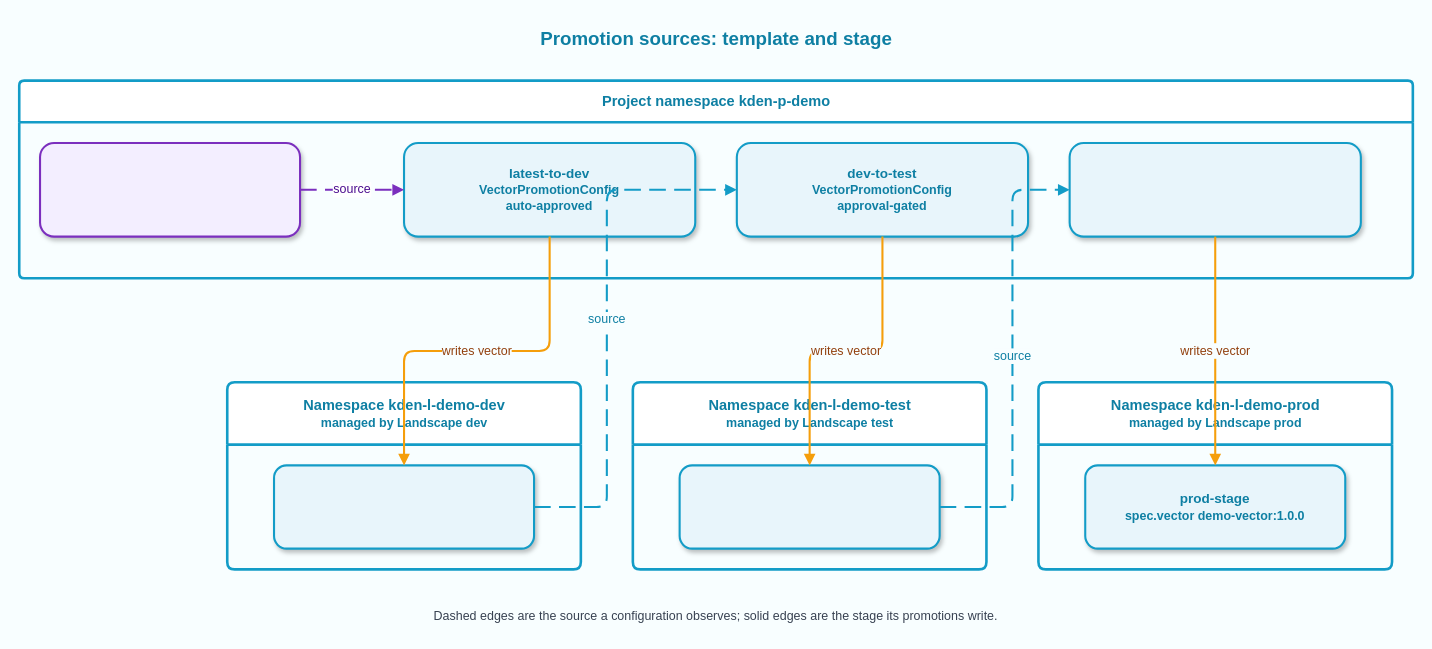
The diagram is 1432 pixels wide and 649 high, and some of its shapes have lost their labels. Each missing label, with the centre of its shape:
"dev-stage spec.vector demo-vector:3.0.0" belongs at point (404, 508).
"test-stage spec.vector demo-vector:2.0.0" belongs at point (810, 508).
"test-to-prod VectorPromotionConfig approval-gated" belongs at point (1216, 190).
"VectorTemplate demo-vector status.latestVector" belongs at point (170, 190).
